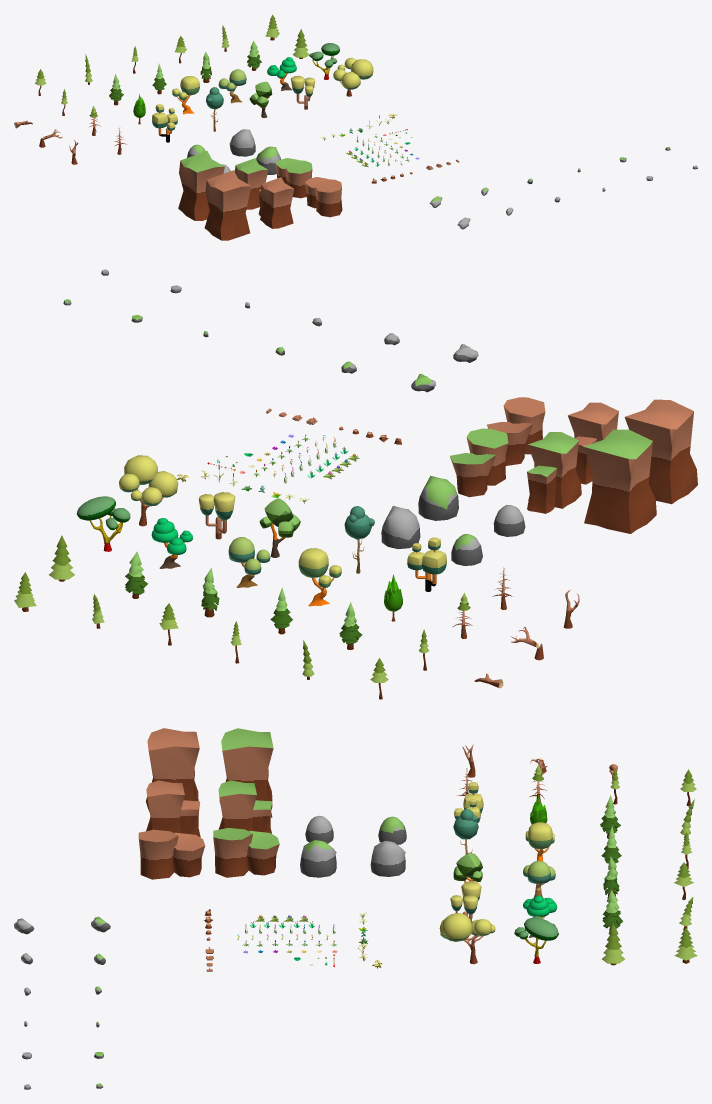
Rendered from world_assets.glb.
The picture shows the model from 3 angles, top to bottom: view 1: azimuth 30°, elevation 25°; view 2: azimuth 150°, elevation 25°; view 3: azimuth 270°, elevation 25°; orthographic projection. The views are drawn at different scales.
Parts seen in each view (by area): view 1: Ground.005, Ground, Ground.003, Ground.002, Ground.001, Ground.004, Tree.016, Stone.005, Tree.021, Tree.011, Tree.014, Tree.020 (+5 smaller); view 2: Ground, Ground.005, Ground.004, Ground.001, Ground.002, Tree.016, Ground.003, Stone.011, Tree.014, Stone.005, Tree.011, Tree.021 (+8 smaller); view 3: Ground.002, Ground.001, Ground, Ground.005, Ground.003, Ground.004, Tree.016, Stone.011, Stone.005, Tree.014, Tree.020, Tree.011 (+7 smaller).
Boxes of the visible parts, bbox=[...] form: Ground.005: bbox=[204, 170, 251, 240]; Ground: bbox=[178, 151, 224, 220]; Ground.003: bbox=[258, 177, 294, 228]; Ground.002: bbox=[305, 177, 342, 217]; Ground.001: bbox=[275, 158, 312, 198]; Ground.004: bbox=[234, 158, 268, 209]; Tree.016: bbox=[333, 57, 373, 96]; Stone.005: bbox=[229, 129, 255, 156]; Tree.021: bbox=[152, 104, 177, 142]; Tree.011: bbox=[172, 76, 199, 114]; Tree.014: bbox=[309, 43, 339, 79]; Tree.020: bbox=[291, 75, 315, 109]; Ground: bbox=[583, 429, 656, 533]; Ground.005: bbox=[624, 399, 697, 504]; Ground.004: bbox=[527, 432, 581, 513]; Ground.001: bbox=[450, 428, 508, 497]; Ground.002: bbox=[487, 397, 545, 465]; Tree.016: bbox=[119, 455, 178, 526]; Ground.003: bbox=[568, 402, 618, 484]; Stone.011: bbox=[418, 475, 458, 520]; Tree.014: bbox=[76, 496, 130, 551]; Stone.005: bbox=[381, 506, 420, 548]; Tree.011: bbox=[298, 548, 341, 606]; Tree.021: bbox=[407, 537, 446, 591]; Ground.002: bbox=[138, 829, 205, 879]; Ground.001: bbox=[213, 828, 279, 877]; Ground: bbox=[219, 728, 273, 817]; Ground.005: bbox=[146, 728, 199, 811]; Ground.003: bbox=[146, 780, 200, 837]; Ground.004: bbox=[218, 780, 272, 833]; Tree.016: bbox=[439, 913, 495, 964]; Stone.011: bbox=[300, 840, 336, 877]; Stone.005: bbox=[370, 841, 405, 876]; Tree.014: bbox=[514, 916, 558, 963]; Tree.020: bbox=[450, 881, 481, 922]; Tree.011: bbox=[525, 822, 554, 861].
Size of the model in its own units: 103 by 11.05 by 93.08.
Materials: 1 (1 with a texture image).
